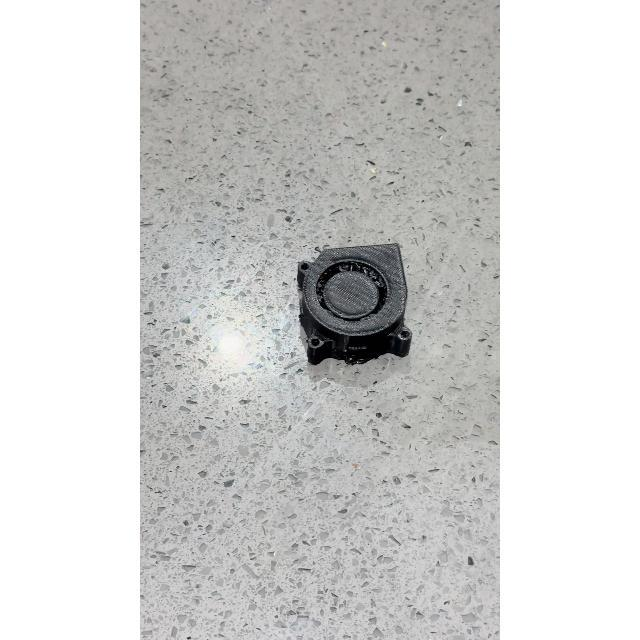Pieza3: (292, 236, 424, 380)
